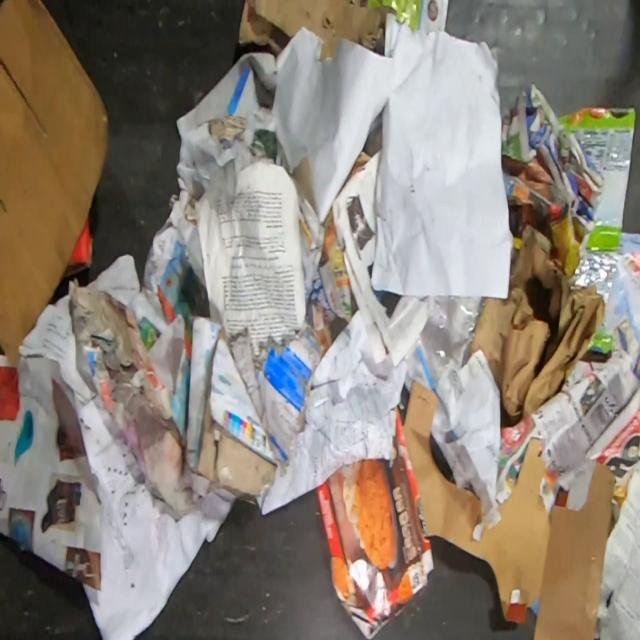cardboard: (68, 276, 325, 522), (404, 378, 615, 640), (314, 404, 435, 640), (557, 106, 636, 306), (239, 0, 397, 62)
soft_plastic: (417, 294, 485, 384)
